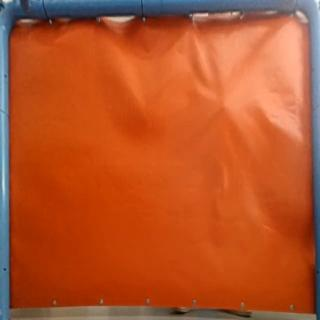Hit-hRxx: (218, 100, 231, 110)
